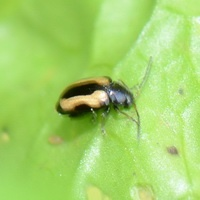insect: (56, 56, 151, 139)
